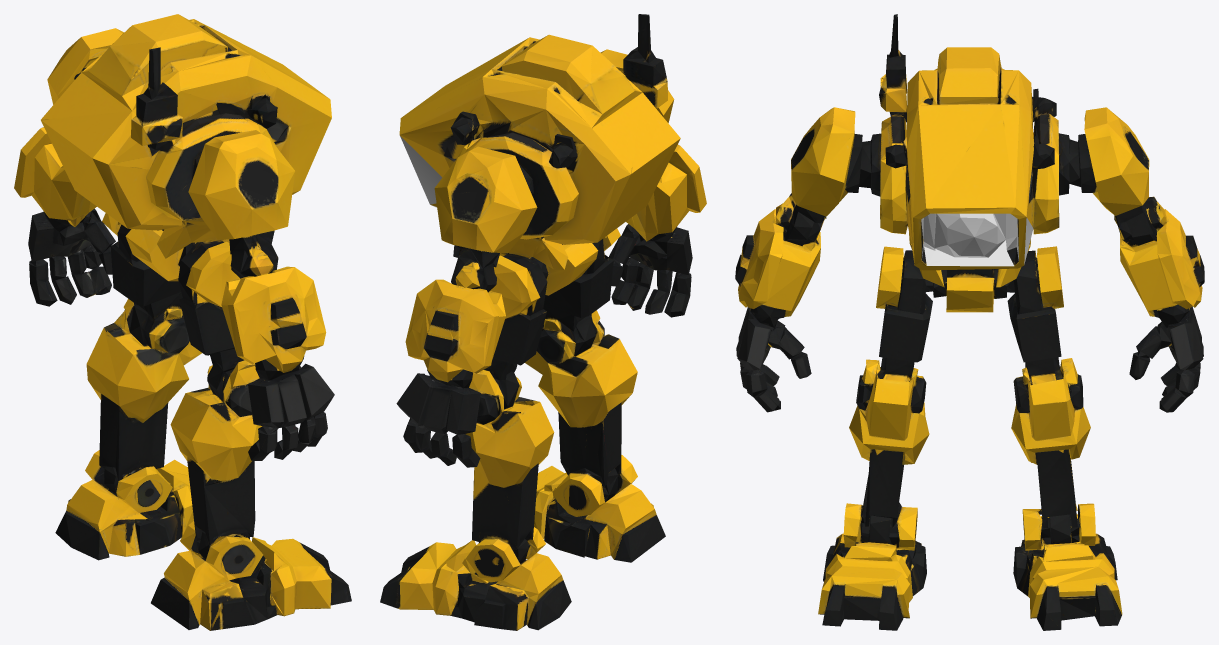
File: chaser_v2_meshy_parts.fbx
The picture shows the model from 3 angles, left to right: view 1: azimuth 30°, elevation 25°; view 2: azimuth 150°, elevation 25°; view 3: azimuth 270°, elevation 25°; orthographic projection. The views are drawn at different scales.
Visible parts, largest first — view 1: HeadTorso, ShinFoot_R, ShinFoot_L, ForearmHand_R, UpperArm_R, ForearmHand_L, Thigh_R, Thigh_L, UpperArm_L, Pelvis; view 2: HeadTorso, ShinFoot_L, ShinFoot_R, ForearmHand_L, ForearmHand_R, UpperArm_L, Thigh_L, Thigh_R, Pelvis, UpperArm_R; view 3: HeadTorso, ShinFoot_R, ShinFoot_L, ForearmHand_R, ForearmHand_L, UpperArm_L, UpperArm_R, Thigh_R, Thigh_L, Pelvis.
Boxes of the visible parts, box(x1,y1,x2,y2) form: HeadTorso: box(41, 14, 331, 235); ShinFoot_R: box(151, 353, 351, 630); ShinFoot_L: box(55, 294, 201, 560); ForearmHand_R: box(221, 263, 334, 460); UpperArm_R: box(188, 130, 295, 273); ForearmHand_L: box(14, 127, 115, 306); Thigh_R: box(157, 227, 239, 357); Thigh_L: box(102, 213, 181, 306); UpperArm_L: box(47, 28, 123, 104); Pelvis: box(125, 229, 229, 281); HeadTorso: box(399, 14, 680, 248); ShinFoot_L: box(380, 363, 571, 630); ShinFoot_R: box(525, 306, 665, 562); ForearmHand_L: box(396, 276, 505, 467); ForearmHand_R: box(609, 144, 706, 317); UpperArm_L: box(434, 146, 537, 286); Thigh_L: box(490, 242, 568, 366); Thigh_R: box(543, 228, 620, 317); Pelvis: box(499, 243, 598, 295); UpperArm_R: box(600, 49, 674, 122); HeadTorso: box(871, 14, 1068, 270); ShinFoot_R: box(818, 359, 929, 630); ShinFoot_L: box(1011, 358, 1122, 630); ForearmHand_R: box(735, 209, 820, 412); ForearmHand_L: box(1120, 208, 1204, 412); UpperArm_L: box(1068, 107, 1163, 239); UpperArm_R: box(776, 107, 871, 239); Thigh_R: box(876, 246, 944, 365); Thigh_L: box(1001, 246, 1063, 365); Pelvis: box(939, 269, 1001, 312).
Size of the model in its own units: 55.16 by 123 by 97.71.
2 materials, 1 textured.
